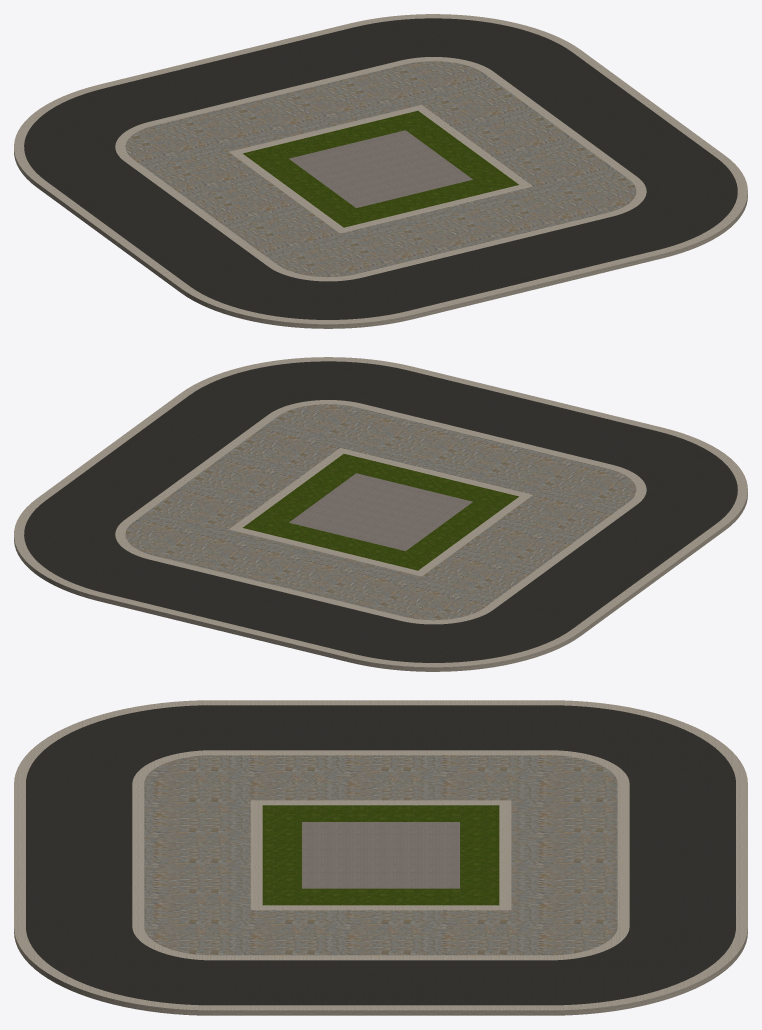
3 views of the same model, one above another, from view 1: azimuth 30°, elevation 25°; view 2: azimuth 150°, elevation 25°; view 3: azimuth 270°, elevation 25° (orthographic). The views are drawn at different scales.
Visible parts, largest first — view 1: 1__Model_-_1_dwg_2; view 2: 1__Model_-_1_dwg_2; view 3: 1__Model_-_1_dwg_2.
Part boxes in pixels (x1,y1,x2,y2): 1__Model_-_1_dwg_2: (14, 14, 747, 328); 1__Model_-_1_dwg_2: (14, 357, 747, 671); 1__Model_-_1_dwg_2: (14, 700, 747, 1015).
Bounding box in the file's own units: 18.6 × 0.15 × 18.6.
5 materials, 5 textured.
